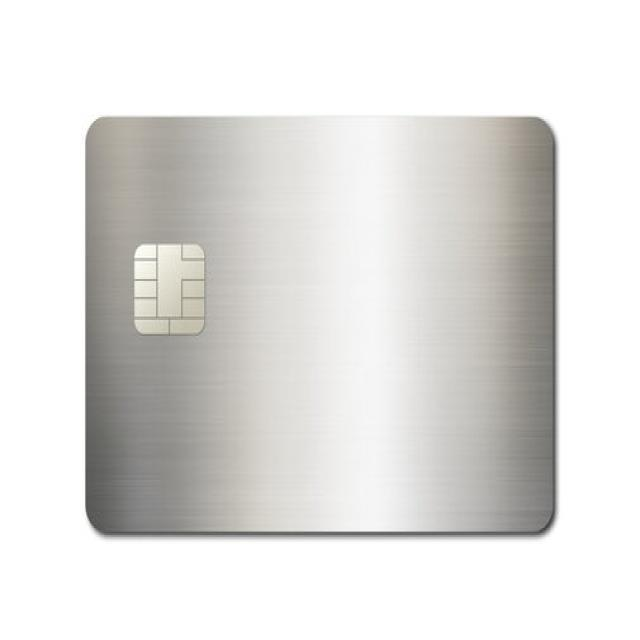payment_card: (84, 114, 557, 537)
